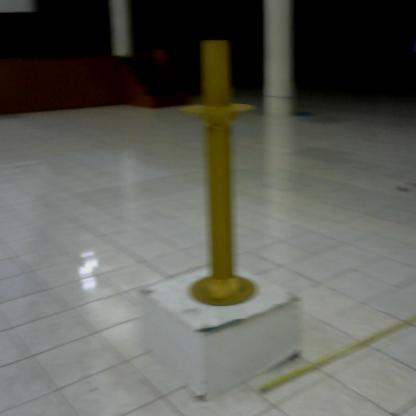pole: (171, 29, 271, 319)
